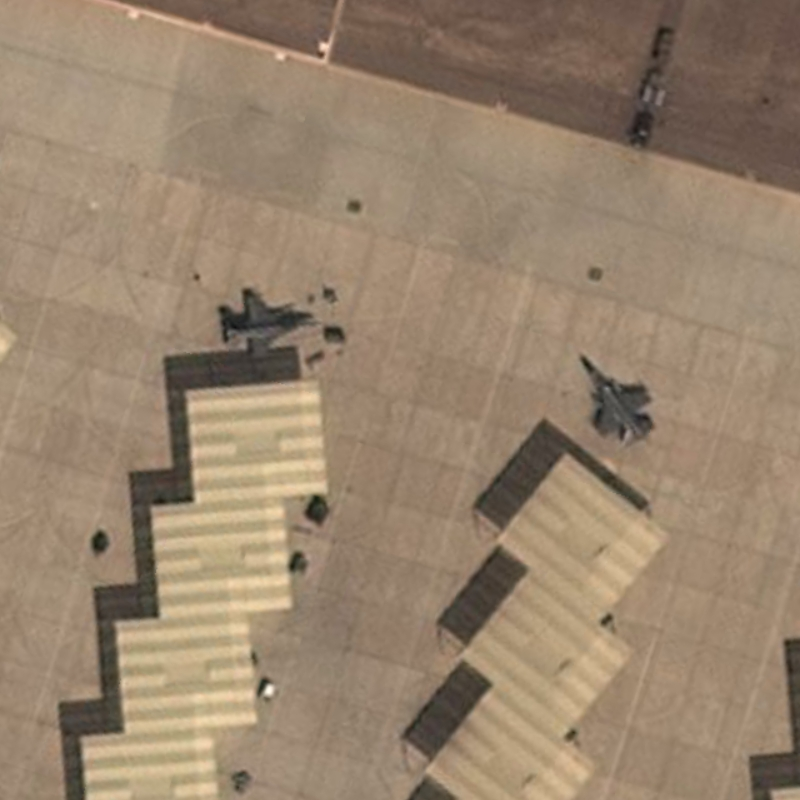A5: (572, 345, 660, 452), (216, 282, 319, 362)
